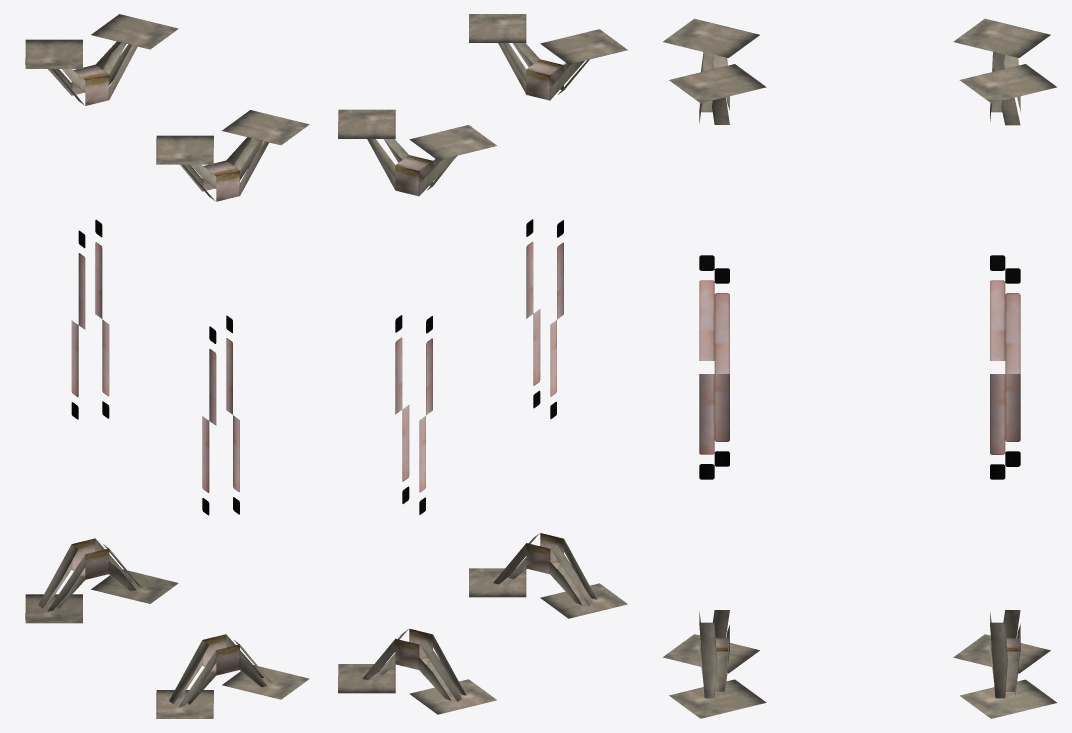
The picture shows the model from 3 angles, left to right: view 1: azimuth 30°, elevation 25°; view 2: azimuth 150°, elevation 25°; view 3: azimuth 270°, elevation 25°; orthographic projection. The views are drawn at different scales.
Parts seen in each view (by area): view 1: T1L7M004_6; view 2: T1L7M004_6; view 3: T1L7M004_6.
Part boxes in pixels (x1,y1,x2,y2): T1L7M004_6: (25,14,309,718); T1L7M004_6: (338,14,627,714); T1L7M004_6: (662,18,1056,718).
Bounding box in the file's own units: 1.17 × 3.76 × 2.19.
